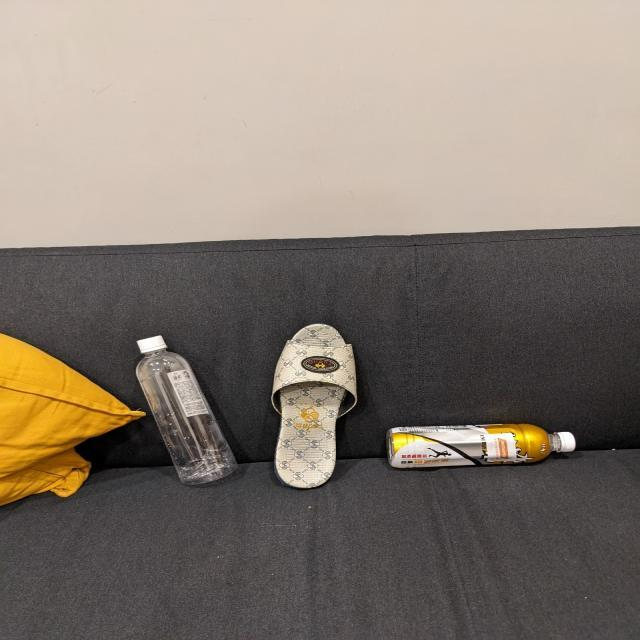good: (126, 334, 242, 477), (390, 422, 582, 466)
